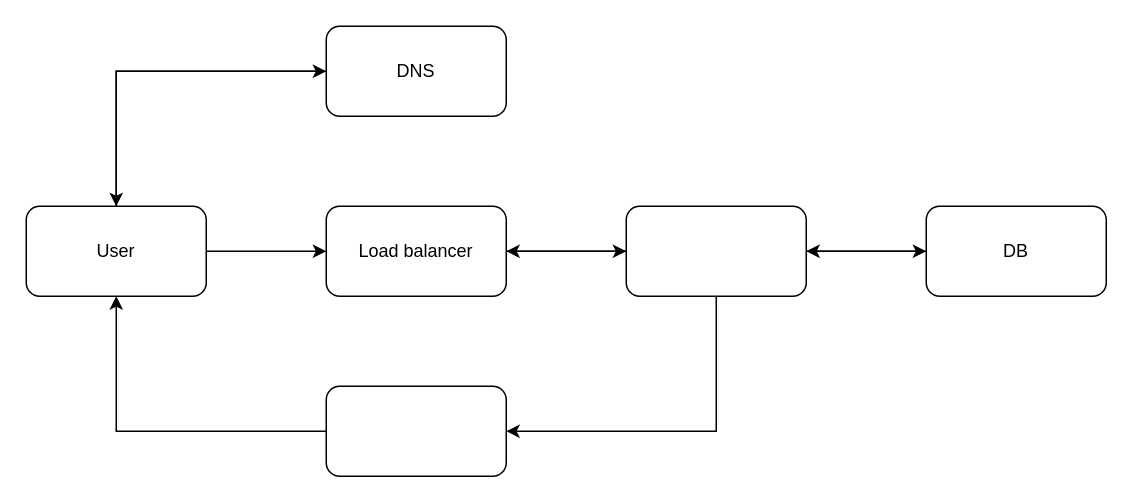
Image size: 1133x503. Some labels were removed from this diagram. Each missing label, with the centre of its shape:
App server: (715,250)
CDN: (415,430)
